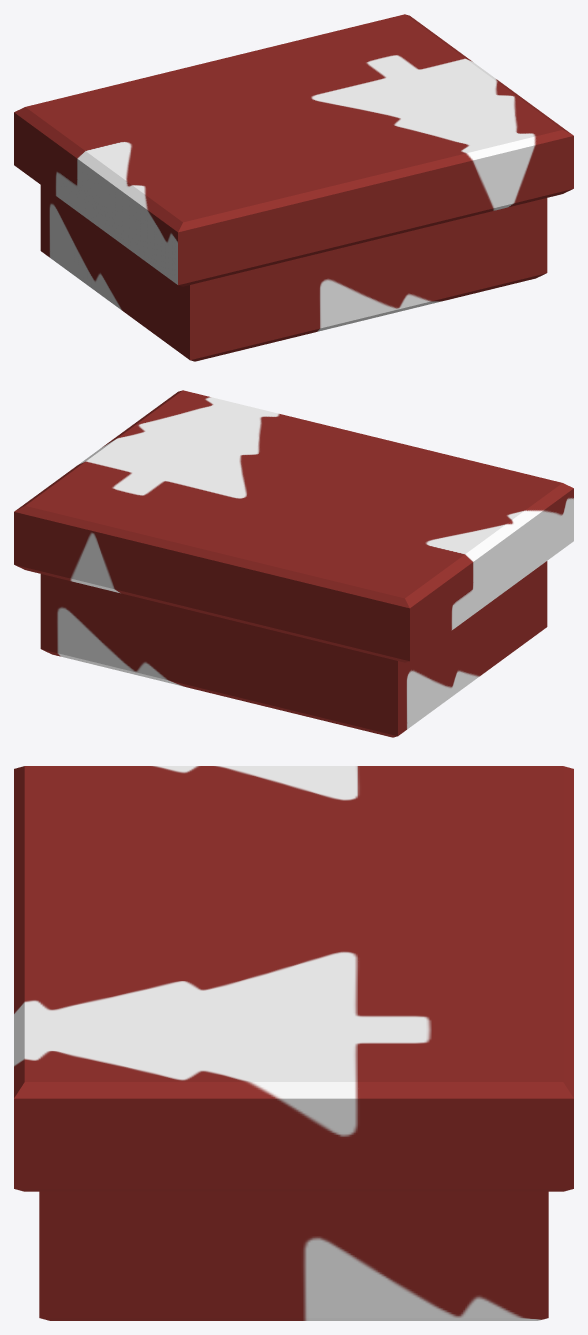
File: PresentBox_RectangularShort_01.fbx
3 renders of one model, top to bottom at view 1: azimuth 30°, elevation 25°; view 2: azimuth 150°, elevation 25°; view 3: azimuth 270°, elevation 25°, orthographic. The views are drawn at different scales.
Visible parts, largest first — view 1: PresentBox_RectangularShort_01_Top, PresentBox_RectangularShort_01; view 2: PresentBox_RectangularShort_01_Top, PresentBox_RectangularShort_01; view 3: PresentBox_RectangularShort_01_Top, PresentBox_RectangularShort_01.
Part boxes in pixels (bbox=[...]): PresentBox_RectangularShort_01_Top: bbox=[14, 14, 573, 286]; PresentBox_RectangularShort_01: bbox=[40, 185, 547, 361]; PresentBox_RectangularShort_01_Top: bbox=[14, 390, 573, 662]; PresentBox_RectangularShort_01: bbox=[40, 561, 547, 737]; PresentBox_RectangularShort_01_Top: bbox=[14, 766, 573, 1191]; PresentBox_RectangularShort_01: bbox=[39, 1191, 548, 1320].
Size of the model in its own units: 0.2791 by 0.1006 by 0.2004.
